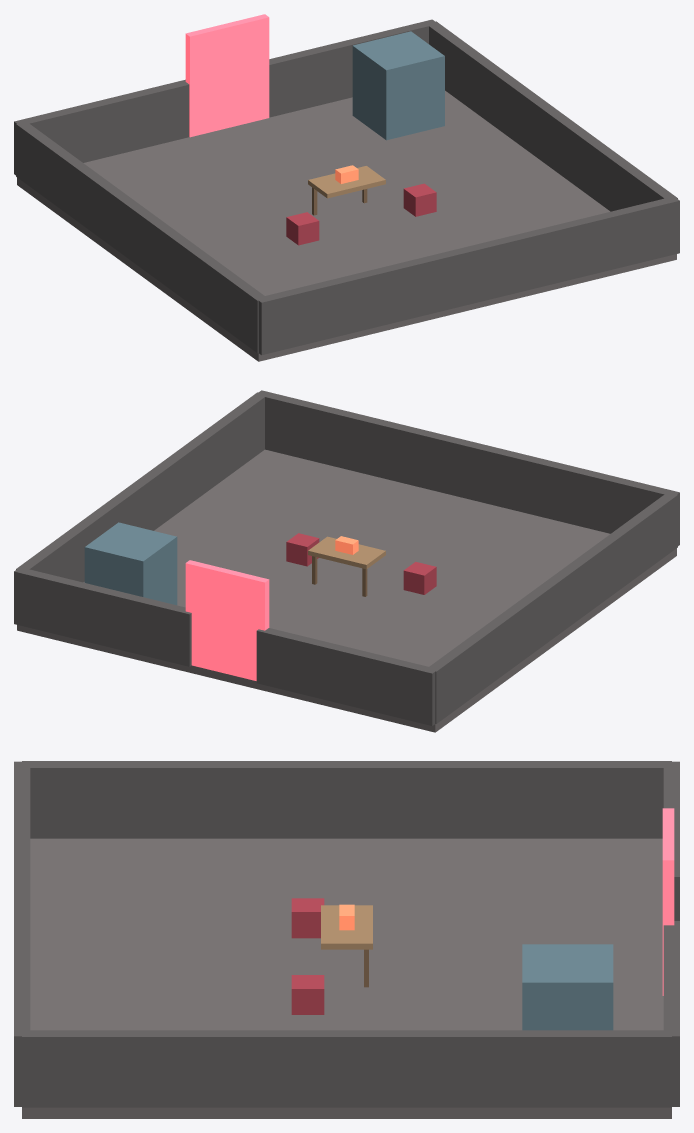
The model's file is world.glb.
3 renders of one model, top to bottom at view 1: azimuth 30°, elevation 25°; view 2: azimuth 150°, elevation 25°; view 3: azimuth 270°, elevation 25°, orthographic. The views are drawn at different scales.
Parts seen in each view (by area): view 1: floor, parapet_south, parapet_west, parapet_east, door_frame, water_tower, parapet_north_left, parapet_north_right, table_top, stool_left, stool_right; view 2: floor, parapet_south, parapet_west, parapet_east, parapet_north_left, parapet_north_right, door_frame, water_tower, table_top, stool_left, stool_right; view 3: floor, parapet_east, parapet_west, water_tower, parapet_south, parapet_north_right, table_top, door_frame, parapet_north_left, stool_right, stool_left.
Boxes of the visible parts, x1=… form: floor: x1=17, y1=90, x2=676, y2=361; parapet_south: x1=256, y1=196, x2=679, y2=355; parapet_west: x1=16, y1=122, x2=267, y2=353; parapet_east: x1=427, y1=21, x2=677, y2=211; door_frame: x1=185, y1=14, x2=269, y2=137; water_tower: x1=352, y1=31, x2=444, y2=140; parapet_north_left: x1=14, y1=79, x2=189, y2=175; parapet_north_right: x1=269, y1=19, x2=437, y2=117; table_top: x1=308, y1=166, x2=385, y2=198; stool_left: x1=286, y1=212, x2=319, y2=245; stool_right: x1=403, y1=183, x2=436, y2=216; floor: x1=17, y1=449, x2=676, y2=732; parapet_south: x1=256, y1=390, x2=679, y2=545; parapet_west: x1=427, y1=494, x2=677, y2=723; parapet_east: x1=16, y1=392, x2=267, y2=582; parapet_north_left: x1=256, y1=628, x2=437, y2=725; parapet_north_right: x1=14, y1=569, x2=191, y2=666; door_frame: x1=185, y1=560, x2=269, y2=680; water_tower: x1=84, y1=522, x2=177, y2=605; table_top: x1=308, y1=536, x2=385, y2=569; stool_left: x1=403, y1=561, x2=436, y2=594; stool_right: x1=286, y1=533, x2=319, y2=566; floor: x1=22, y1=838, x2=671, y2=1118; parapet_east: x1=22, y1=1030, x2=671, y2=1107; parapet_west: x1=22, y1=761, x2=671, y2=838; water_tower: x1=522, y1=944, x2=613, y2=1030; parapet_south: x1=14, y1=761, x2=30, y2=1106; parapet_north_right: x1=663, y1=921, x2=679, y2=1106; table_top: x1=321, y1=905, x2=372, y2=949; door_frame: x1=662, y1=808, x2=674, y2=995; parapet_north_left: x1=663, y1=761, x2=679, y2=920; stool_right: x1=291, y1=975, x2=324, y2=1014; stool_left: x1=291, y1=898, x2=324, y2=938.
Size of the model in its own units: 10.05 by 2.5 by 10.25.
